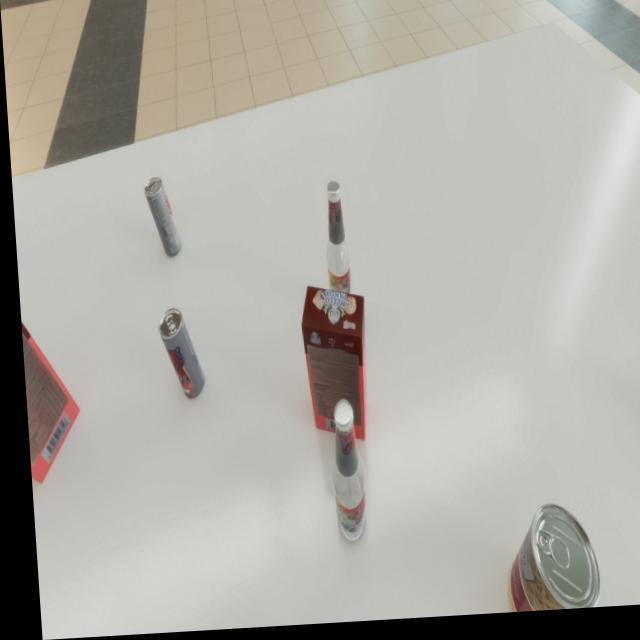Bottle: (320, 402, 362, 550), (318, 184, 350, 326)
HelloPanda: (295, 287, 367, 447)
Potato_sticks: (493, 507, 593, 618)
Rita_zero_sugar: (153, 308, 200, 402), (140, 178, 179, 260)
